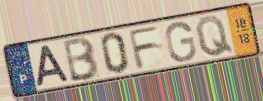0: (99, 31, 132, 76)
A: (35, 43, 72, 89)
B: (62, 35, 101, 84)
F: (126, 23, 162, 71)
G: (163, 20, 198, 63)
Q: (194, 15, 236, 59)
